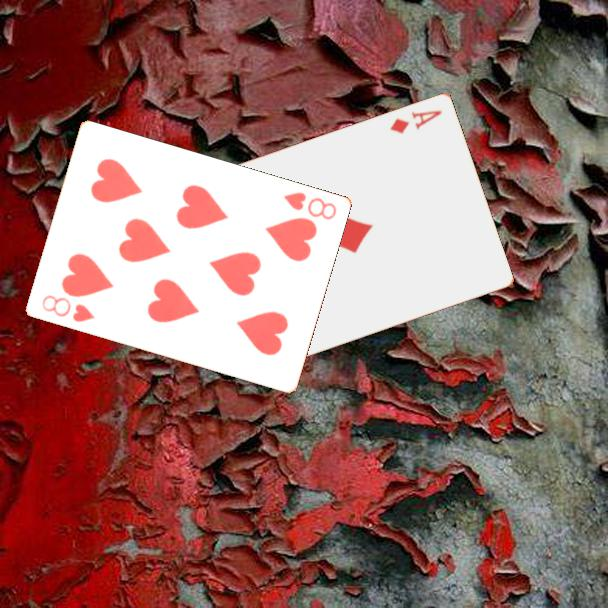d01: (386, 107, 445, 137)
h08: (38, 291, 97, 325), (280, 189, 339, 223)
